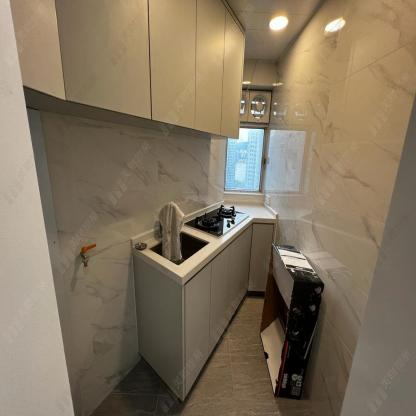Cupboard: (11, 1, 247, 139), (135, 220, 278, 406)
Exhaust Fan: (239, 89, 272, 124)
Sink: (151, 232, 208, 264)
Stove: (181, 205, 250, 239)
